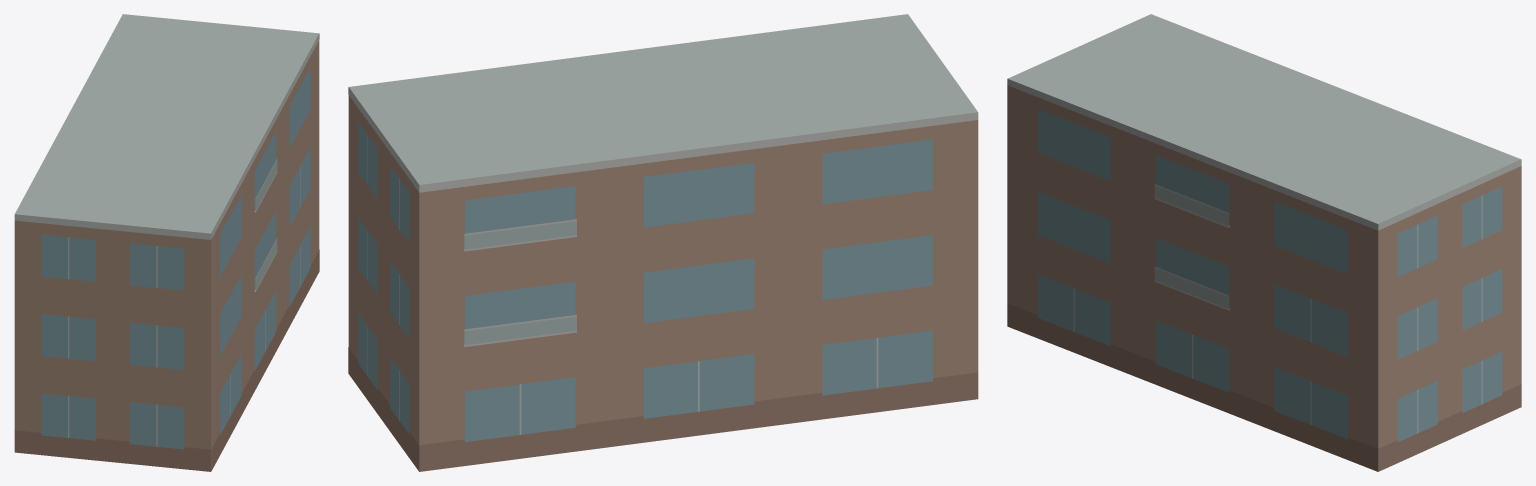
Rendered from survey-upis-32708076.glb.
3 renders of one model, left to right at view 1: azimuth 30°, elevation 25°; view 2: azimuth 150°, elevation 25°; view 3: azimuth 270°, elevation 25°, orthographic. The views are drawn at different scales.
Visible parts, largest first — view 1: survey-upis-32708076.tmp; view 2: survey-upis-32708076.tmp; view 3: survey-upis-32708076.tmp.
Part boxes in pixels (left/top/right/bottom): survey-upis-32708076.tmp: left=14, top=14, right=319, bottom=471; survey-upis-32708076.tmp: left=348, top=14, right=978, bottom=471; survey-upis-32708076.tmp: left=1007, top=14, right=1521, bottom=471.
Bounding box in the file's own units: 16.65 × 9.15 × 17.21.
